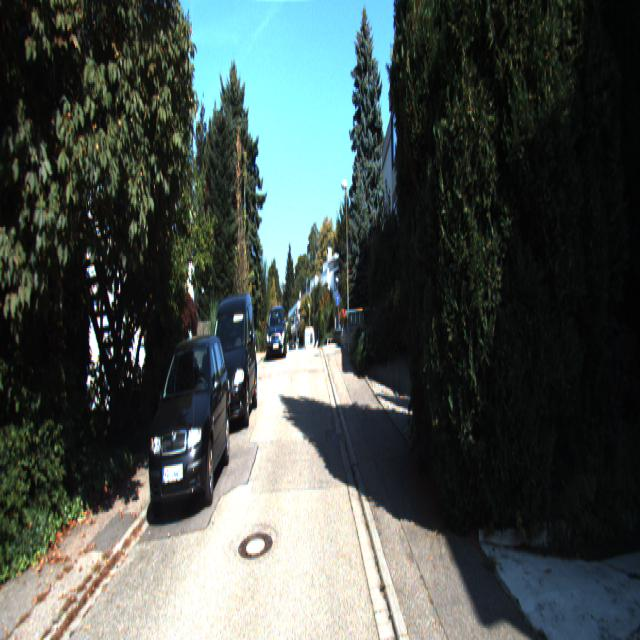Car: (147, 332, 231, 520), (206, 288, 258, 432), (265, 306, 288, 360)
